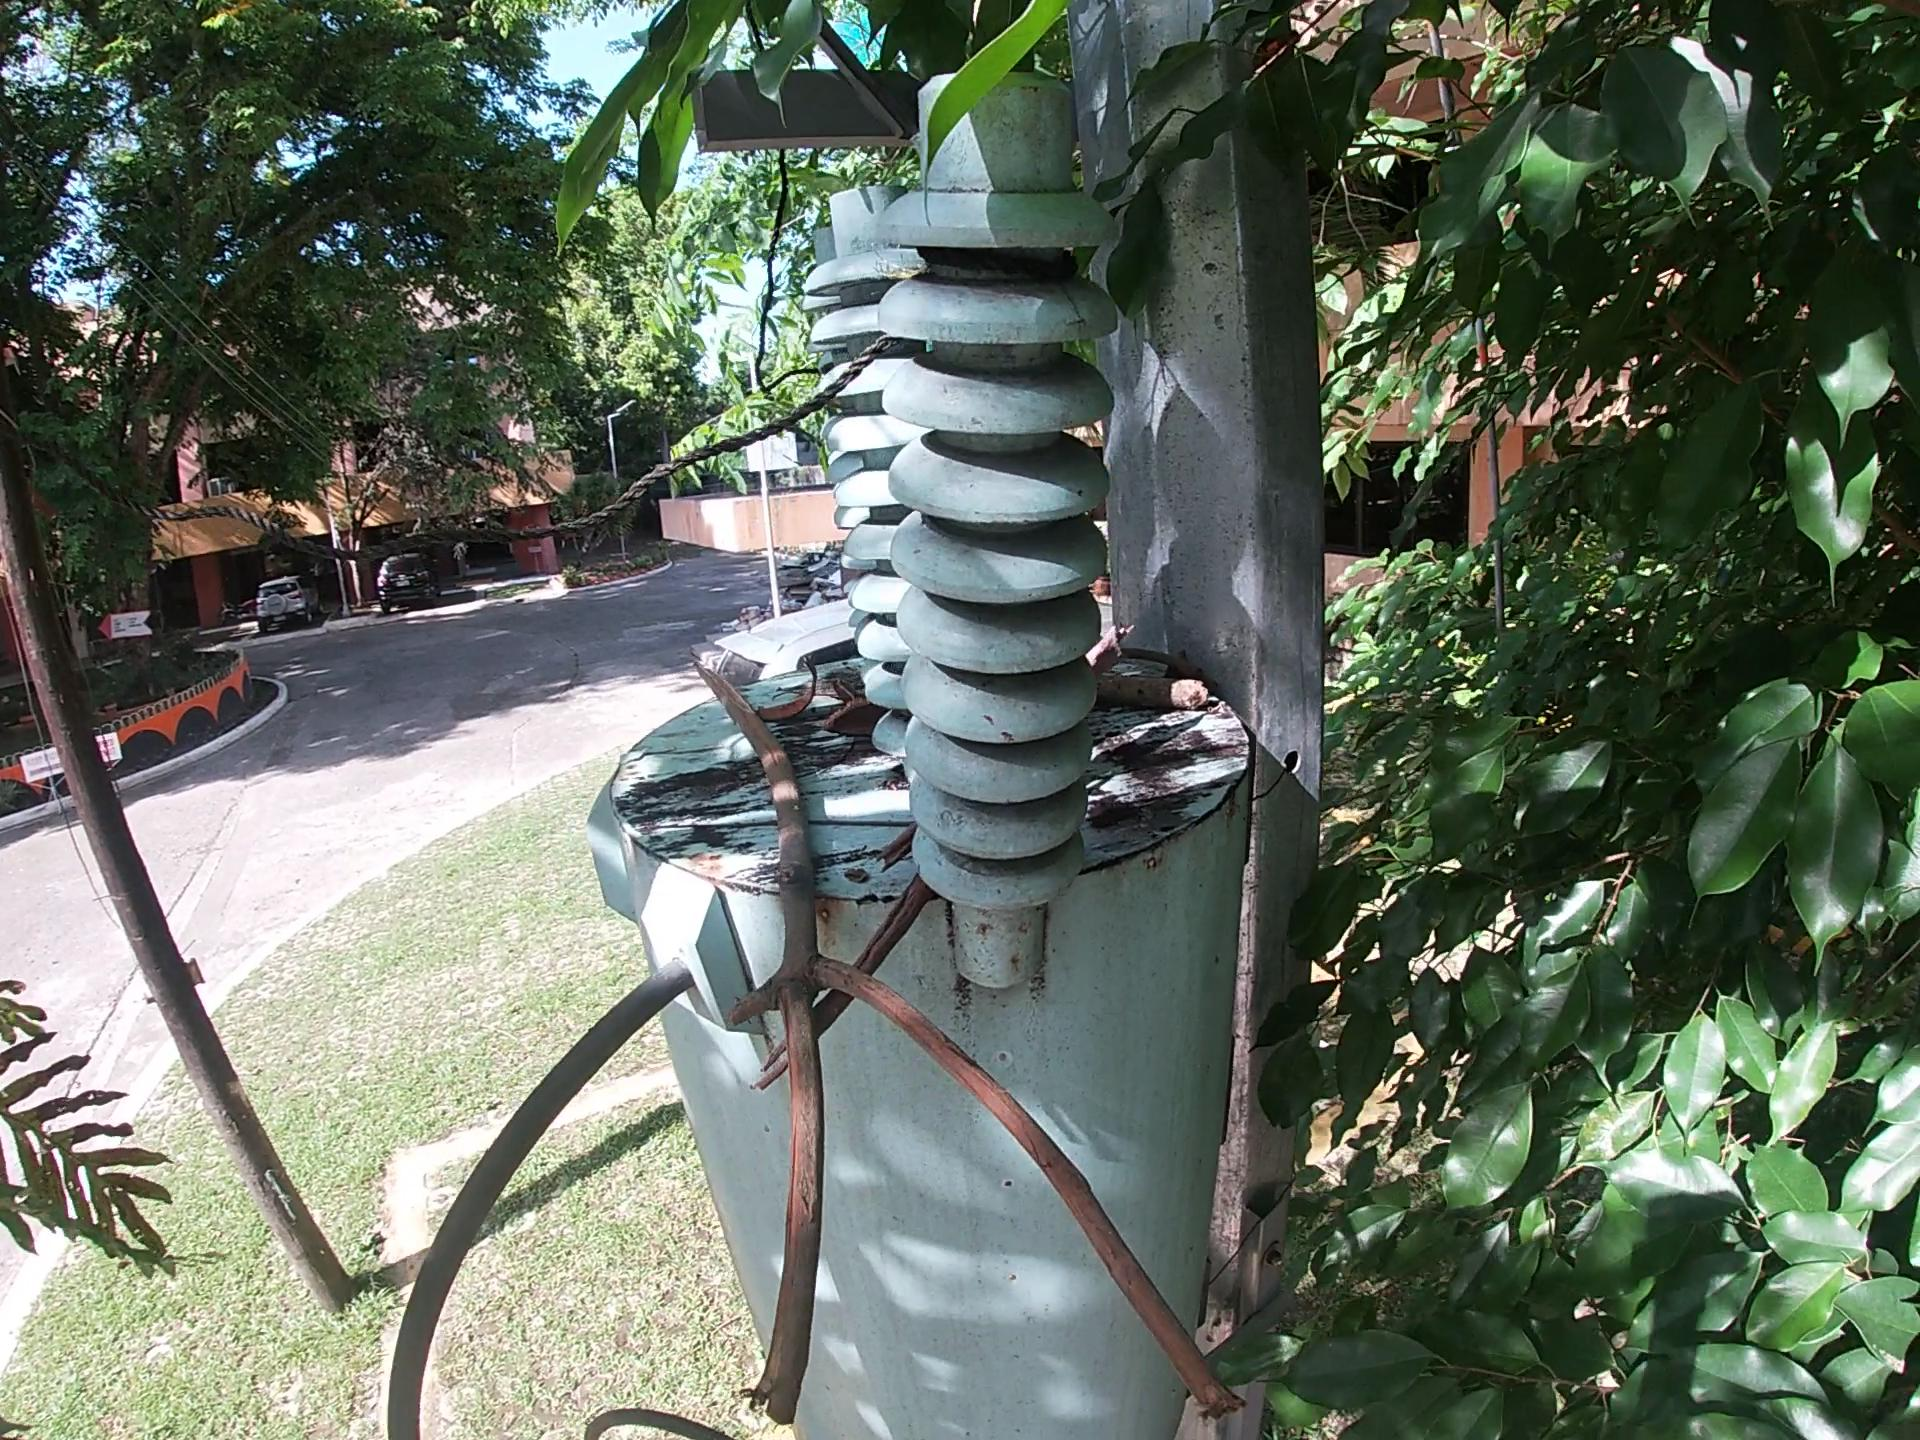mahogany fruit: (760, 661, 824, 717), (821, 694, 878, 741)
tree branch: (692, 650, 1277, 1419), (751, 873, 930, 1092), (686, 815, 910, 839), (1107, 676, 1231, 706), (1125, 649, 1217, 681), (1085, 625, 1129, 667), (878, 833, 906, 880), (828, 678, 856, 700)
